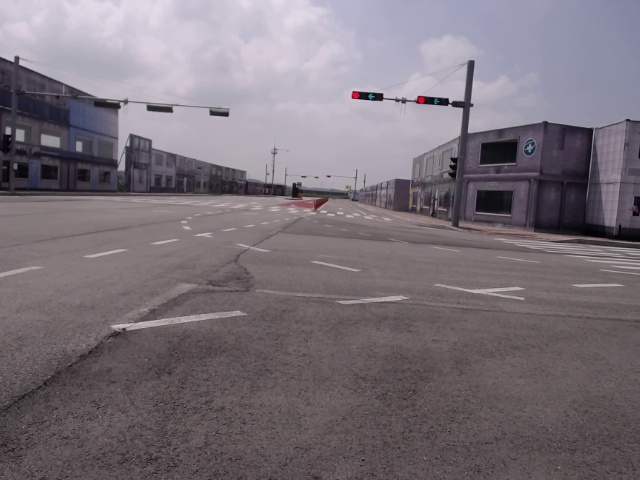left_green_4: (352, 91, 383, 101), (417, 96, 448, 106)
